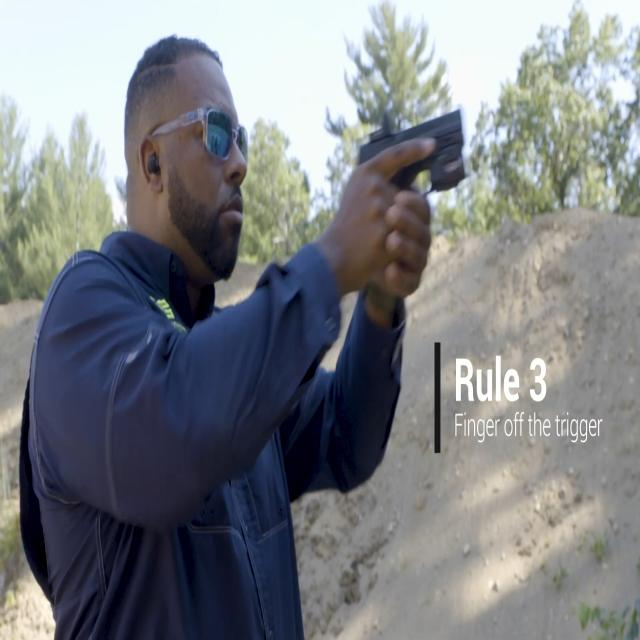Gun_Holder: (347, 101, 488, 246)
Person: (24, 48, 411, 640)
